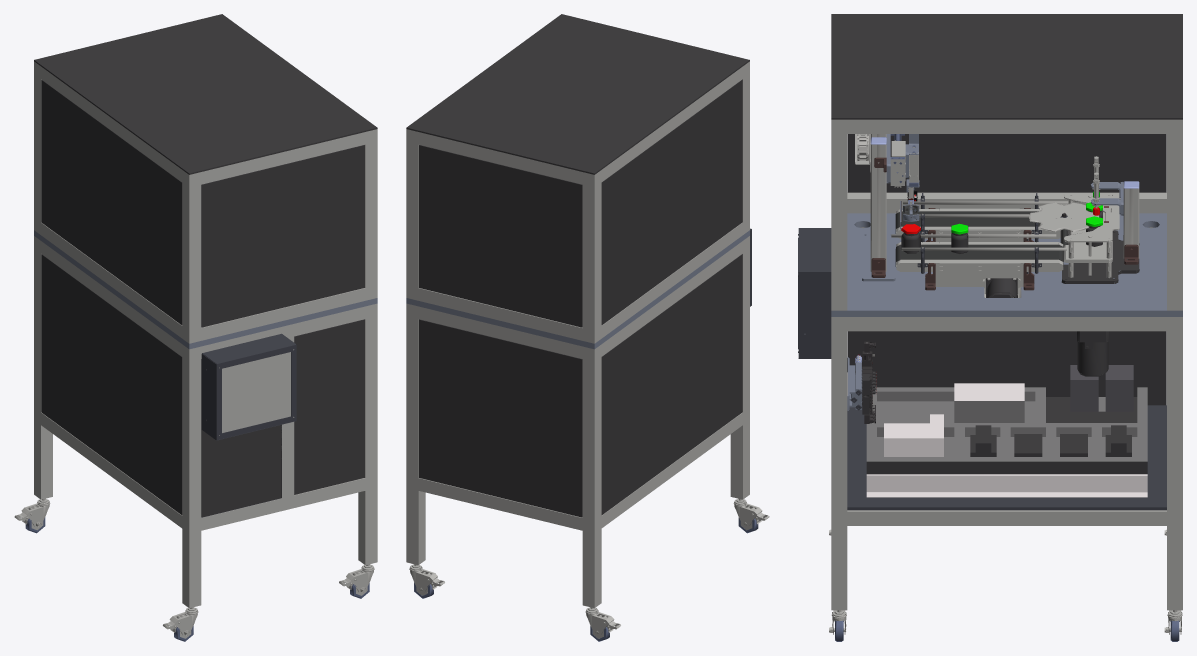
The model's file is DemoKit.fbx.
3 views of the same model, side by side, from view 1: azimuth 30°, elevation 25°; view 2: azimuth 150°, elevation 25°; view 3: azimuth 270°, elevation 25° (orthographic). The views are drawn at different scales.
Visible parts, largest first — view 1: demokit_v4.001; view 2: demokit_v4.001; view 3: demokit_v4.001.
Boxes of the visible parts, left/top/right/bottom form: demokit_v4.001: left=14, top=14, right=377, bottom=641; demokit_v4.001: left=406, top=14, right=769, bottom=641; demokit_v4.001: left=798, top=14, right=1182, bottom=641.
Size of the model in its own units: 0.7783 by 1.1 by 1.67.
